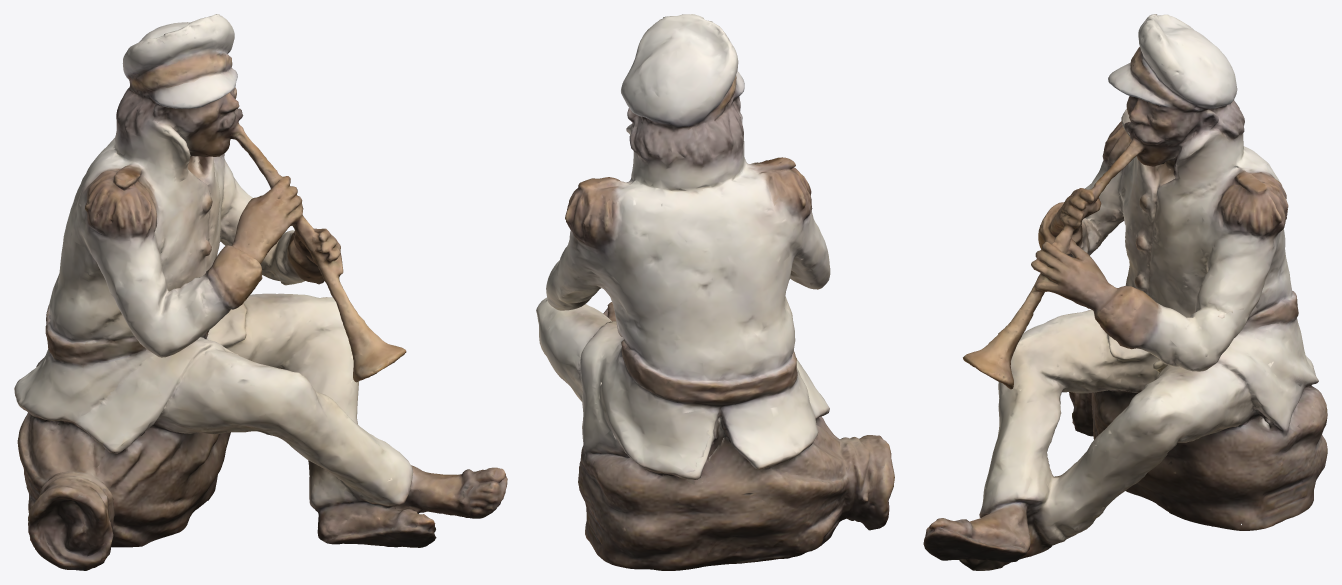
The model's file is khanna-davinder-raj-tutu-walae.glb.
3 renders of one model, left to right at view 1: azimuth 30°, elevation 25°; view 2: azimuth 150°, elevation 25°; view 3: azimuth 270°, elevation 25°, orthographic.
Visible parts, largest first — view 1: SculptureE_010; view 2: SculptureE_010; view 3: SculptureE_010.
Boxes of the visible parts, bbox=[...] form: SculptureE_010: bbox=[14, 14, 507, 570]; SculptureE_010: bbox=[536, 14, 894, 570]; SculptureE_010: bbox=[923, 14, 1327, 570].
Bounding box in the file's own units: 18.23 × 22.44 × 17.03.
Materials: 1 (1 with a texture image).
